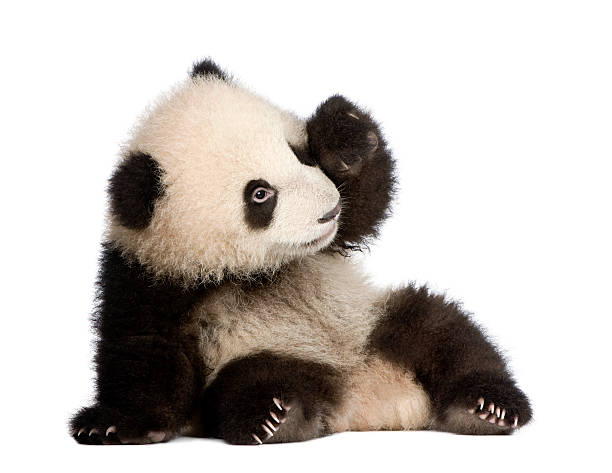panda: (69, 55, 369, 296)
